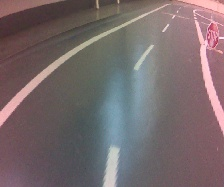stop sign: (205, 21, 220, 50)
